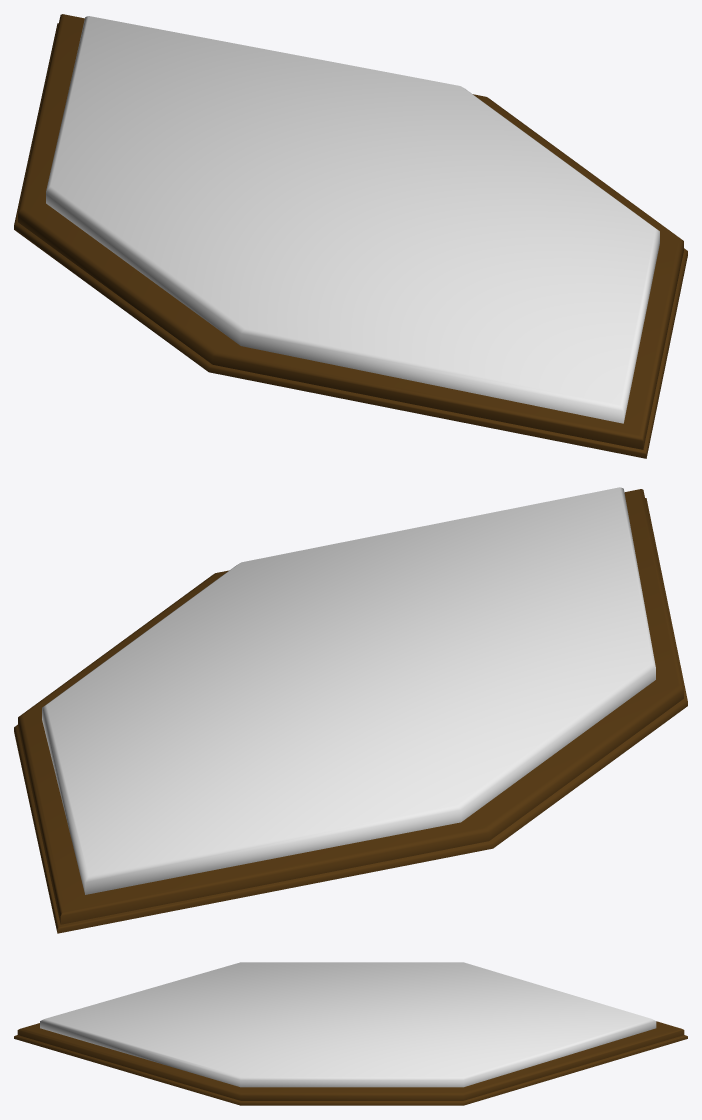
File: PawnAction.fbx
The picture shows the model from 3 angles, top to bottom: view 1: azimuth 30°, elevation 25°; view 2: azimuth 150°, elevation 25°; view 3: azimuth 270°, elevation 25°; orthographic projection. The views are drawn at different scales.
Visible parts, largest first — view 1: Cube.001, Cube; view 2: Cube.001, Cube; view 3: Cube.001, Cube.
Part boxes in pixels (x1,y1,x2,y2): Cube.001: [46, 16, 659, 423]; Cube: [14, 14, 687, 458]; Cube.001: [42, 487, 655, 894]; Cube: [14, 489, 687, 933]; Cube.001: [40, 962, 656, 1087]; Cube: [14, 1021, 687, 1105].
Size of the model in its own units: 281 by 19.48 by 599.
